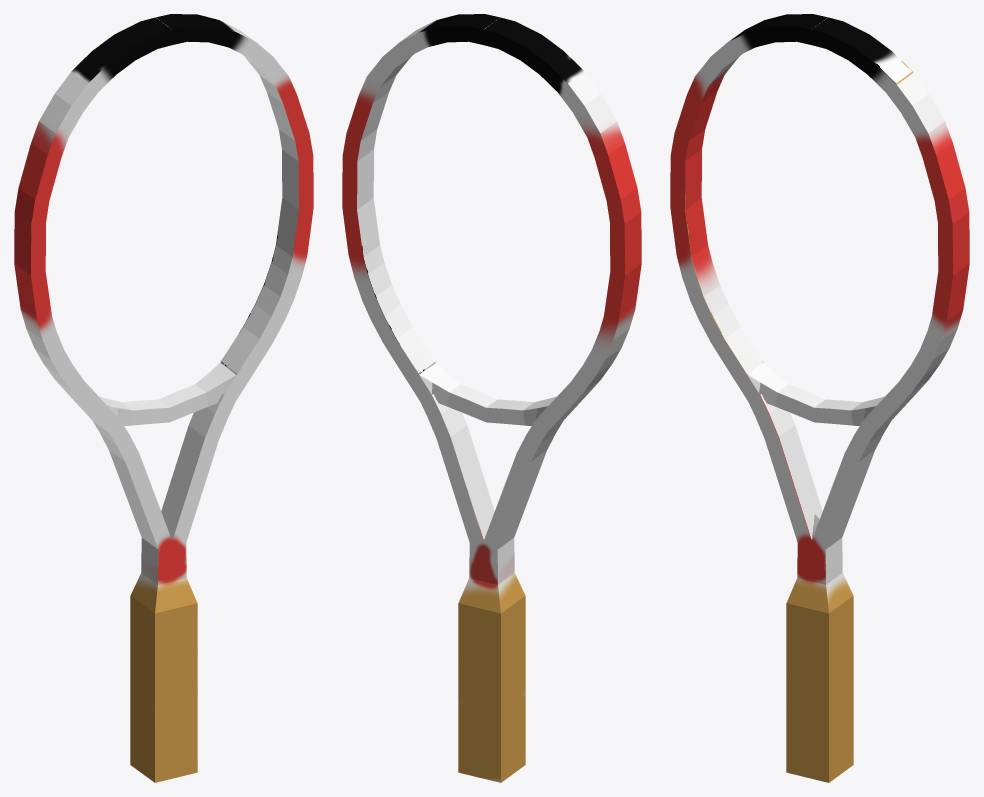
File: FedVRracquet.fbx
3 views of the same model, side by side, from view 1: azimuth 30°, elevation 25°; view 2: azimuth 150°, elevation 25°; view 3: azimuth 330°, elevation 25° (orthographic).
Visible parts, largest first — view 1: Cube; view 2: Cube; view 3: Cube.
Boxes of the visible parts, x1,y1,x2,y2 form: Cube: [14, 14, 313, 782]; Cube: [342, 14, 641, 782]; Cube: [670, 14, 969, 782].
Bounding box in the file's own units: 1332 × 3353 × 200.
